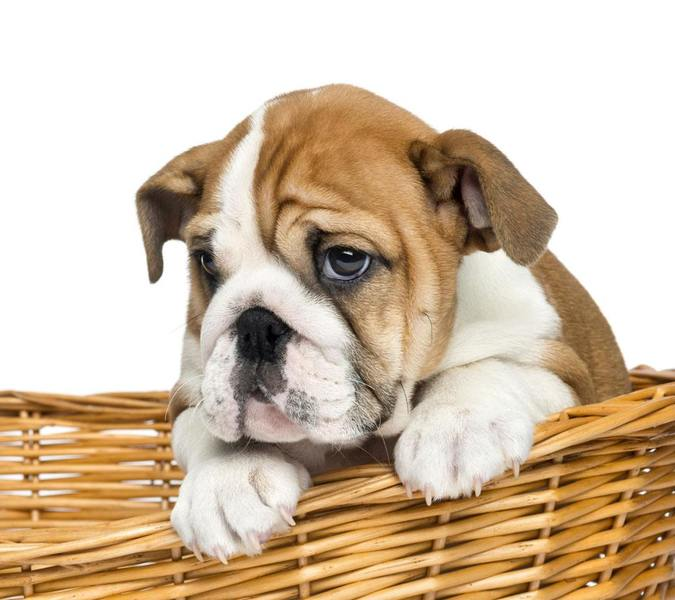dog: (108, 74, 576, 442)
